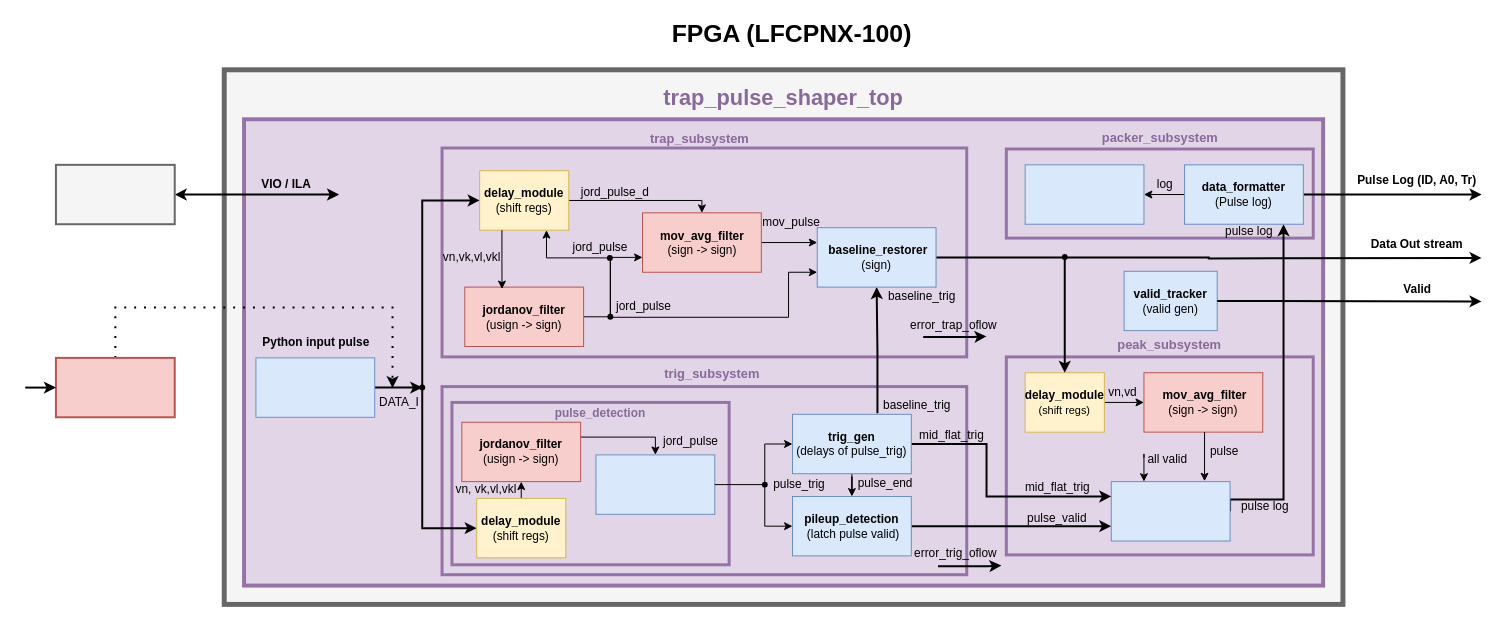
Some shapes in this 1507 by 624 pixel diagram are drawn without their labels. Here are the shapes that lost their labels. From the top down, the centre of each, then its label:
the point at 114,194: USER (PC)
the point at 1084,194: log_pulse_mem (x1 DP BRAM)
the point at 1064,256: pulse_filtered: yn (15 bit signed)
the point at 114,387: ADC3664 (125 Mhz, 14 bit, unsigned)
the point at 315,387: pulse_feed (pulse_data_pkg)
the point at 655,484: cfd
the point at 1170,511: pulse_capture (Pulse data)
